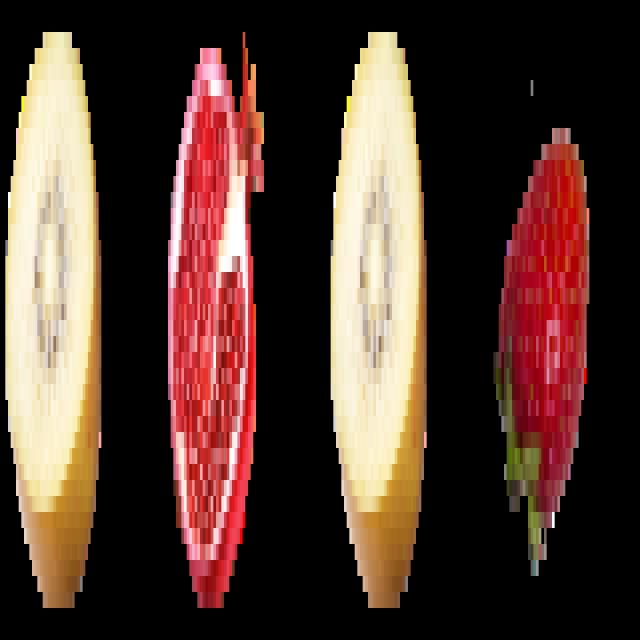kiwifruit: (3, 16, 112, 622), (326, 13, 432, 631)
pomegranate: (162, 19, 266, 623)
strawberry: (490, 58, 596, 602)
